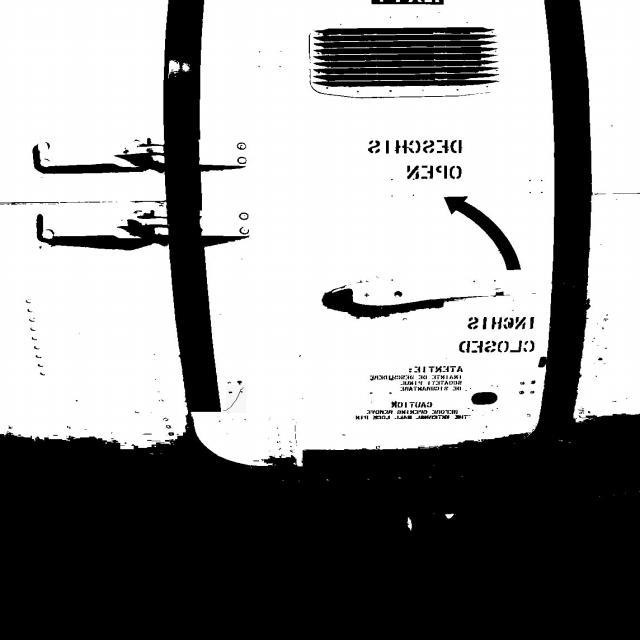crack: (228, 386, 248, 414)
